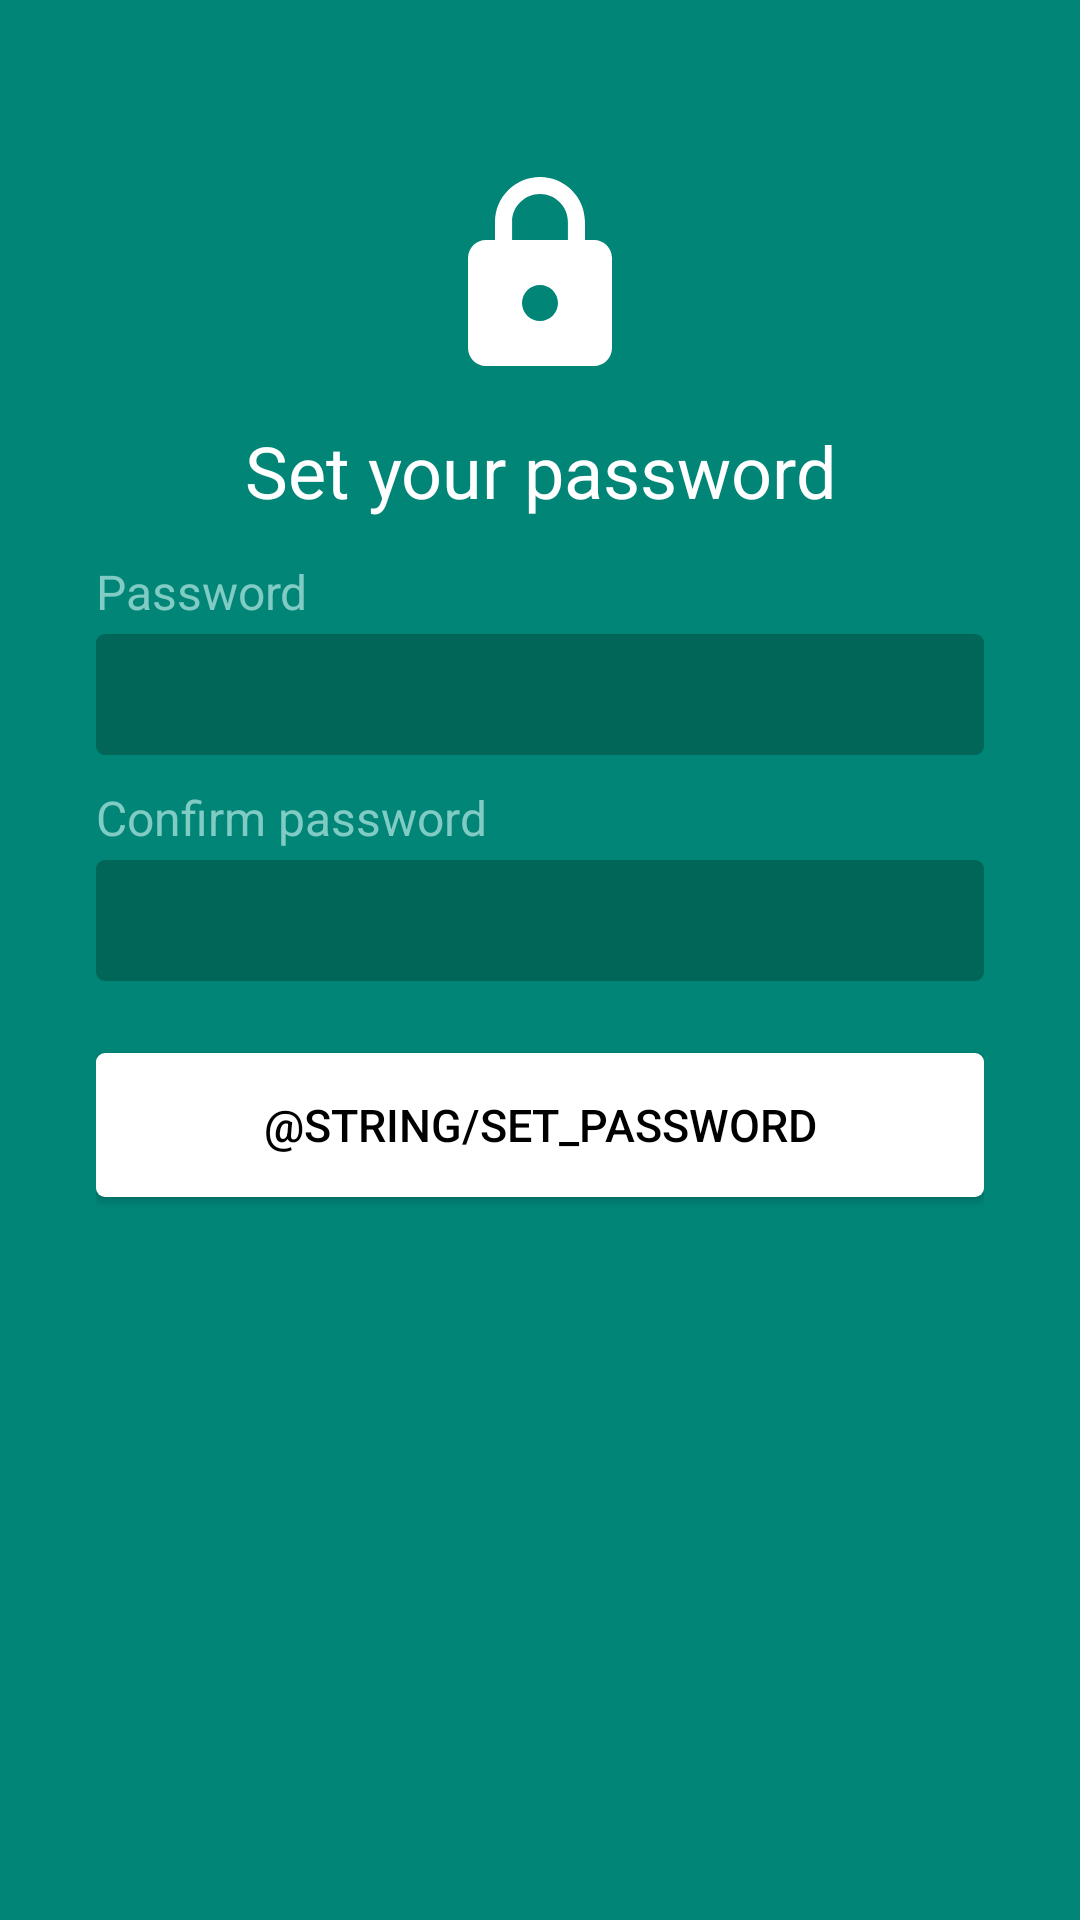

Screen size 1080*1920. Icon name, then its box in pixels as (x1=x1, y1=y1, x2=x2, y2=y2):
lock: (x1=468, y1=177, x2=612, y2=366)
